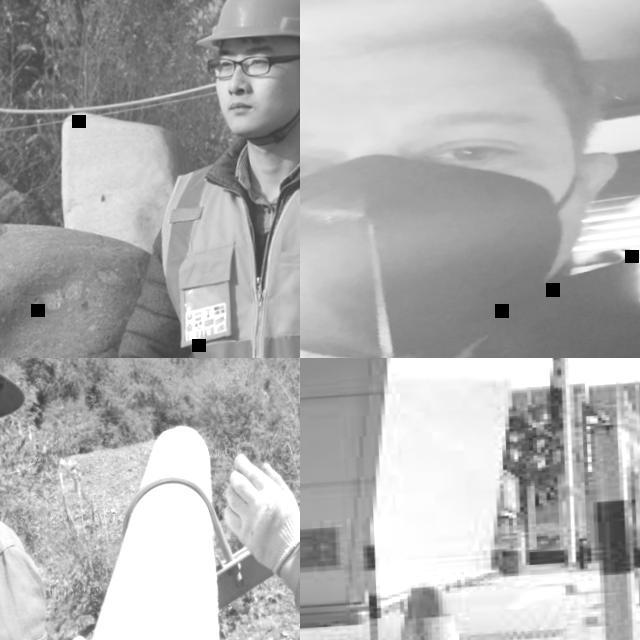Weapon: (130, 13, 296, 365)
objects: (174, 17, 322, 165)
